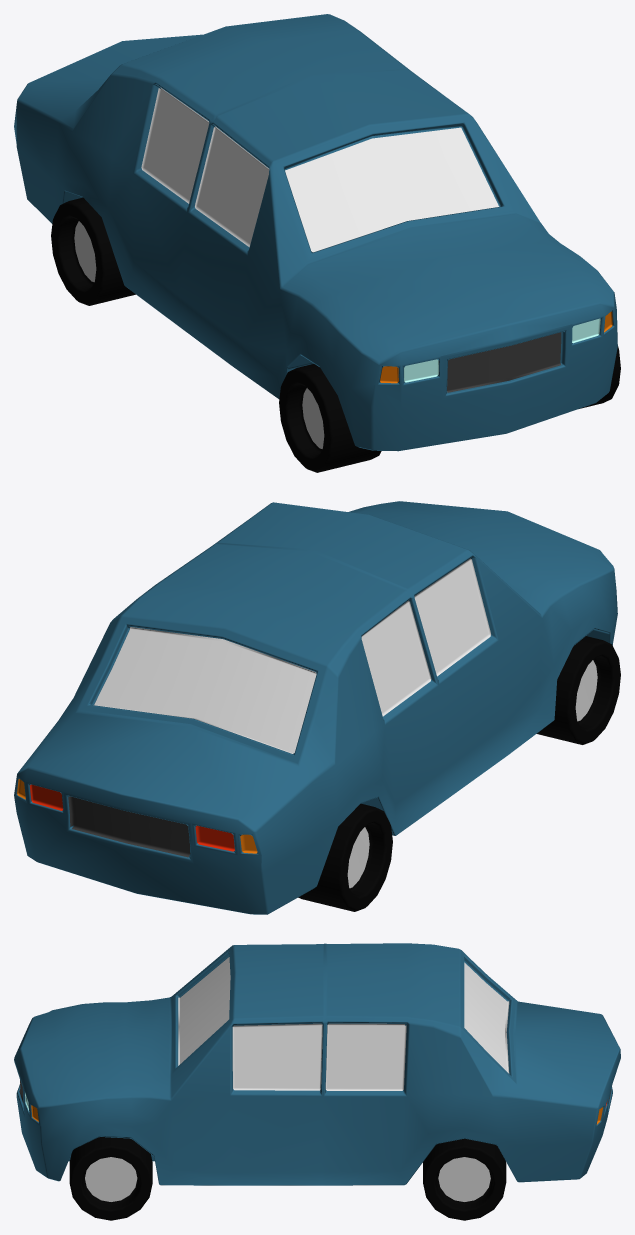
File: Blue-Car.fbx
3 renders of one model, top to bottom at view 1: azimuth 30°, elevation 25°; view 2: azimuth 150°, elevation 25°; view 3: azimuth 270°, elevation 25°, orthographic. The views are drawn at different scales.
Parts seen in each view (by area): view 1: Cylinder.074; view 2: Cylinder.074; view 3: Cylinder.074.
Boxes of the visible parts, x1,y1,x2,y2 form: Cylinder.074: (14, 14, 620, 472); Cylinder.074: (14, 501, 620, 914); Cylinder.074: (14, 943, 620, 1220).
Size of the model in its own units: 157 by 132 by 365.
